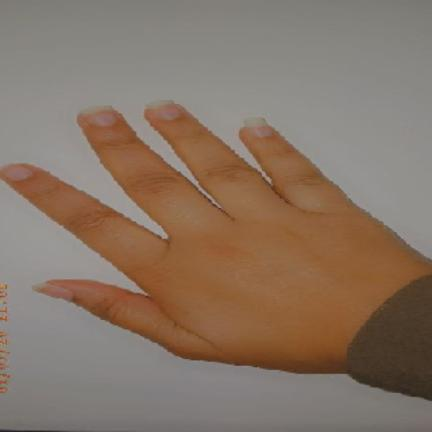Nail: (33, 281, 74, 302), (79, 105, 116, 127), (145, 100, 182, 121), (244, 117, 274, 138), (0, 165, 33, 182)
